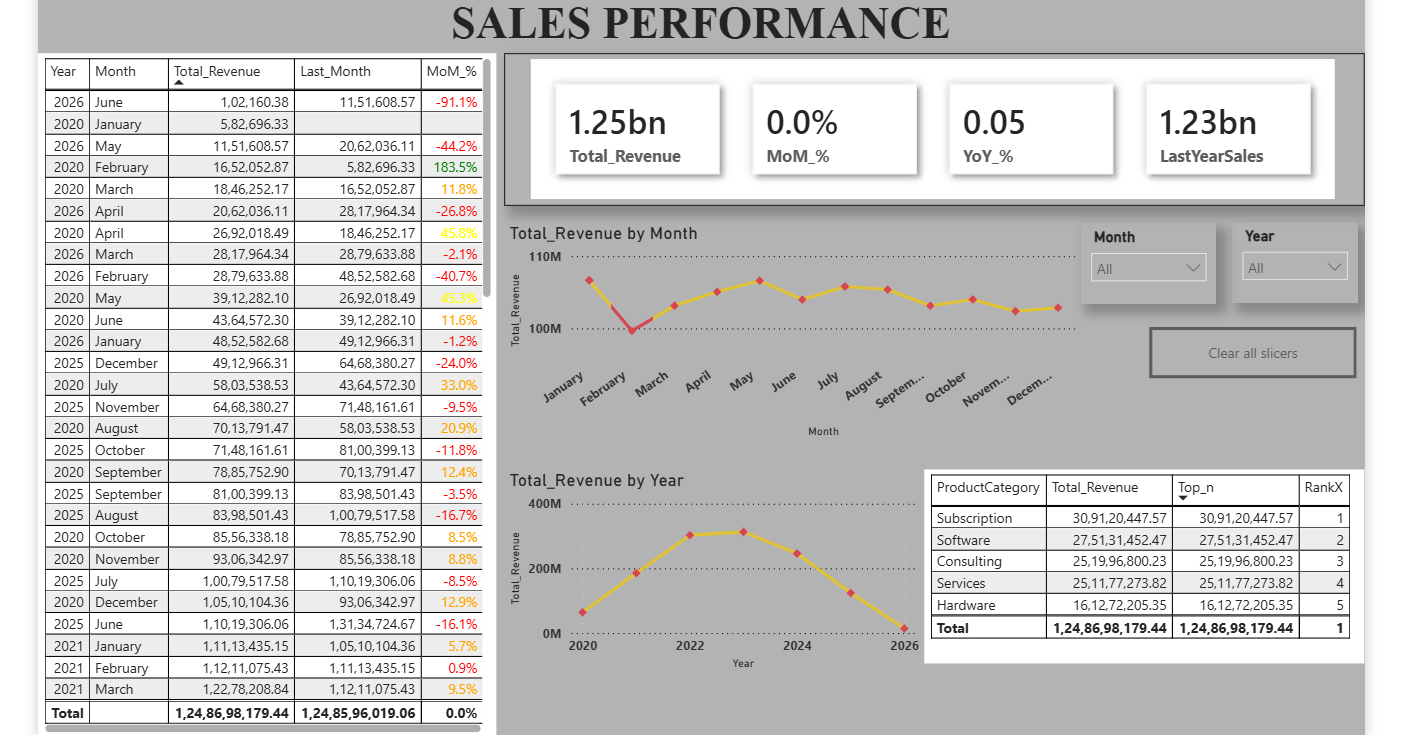

The dashboard page shown, as its layout file describes it:
{"tool":"powerbi","page":{"name":"Sales","canvas":[1280,720],"ordinal":5},"visuals":[{"type":"textbox","box":[0,0,1280,73.6],"z":0},{"type":"slicer","fields":{"Values":["Calendar.Date.Variation.Date Hierarchy.Month"]},"box":[1006.2,223.2,131.5,77.2],"z":1000},{"type":"slicer","fields":{"Values":["Calendar.Date.Variation.Date Hierarchy.Year"]},"box":[1152.2,222,121.9,78.4],"z":2000},{"type":"tableEx","fields":{"Values":["churn_info.ProductCategory","Dax.Total_Revenue","Dax.Top_n","Dax.RankX"]},"box":[855.4,460.9,424.7,187],"z":3000},{"type":"cardVisual","fields":{"Data":["Dax.Total_Revenue","Dax.MoM_%","Dax.YoY_%","Dax.LastYearSales"]},"box":[450,59.1,830,147.2],"z":4000},{"type":"lineChart","fields":{"Category":["Calendar.Date.Variation.Date Hierarchy.Month"],"Y":["Dax.Total_Revenue"]},"box":[450,222,556.2,213.5],"z":5000},{"type":"tableEx","fields":{"Values":["Calendar.Date.Variation.Date Hierarchy.Year","Calendar.Date.Variation.Date Hierarchy.Month","Dax.Total_Revenue","Dax.Last_Month","Dax.MoM_%"]},"box":[0,59.1,442.8,661.1],"z":6000},{"type":"lineChart","fields":{"Category":["Calendar.Date.Variation.Date Hierarchy.Year"],"Y":["Dax.Total_Revenue"]},"box":[450,460.9,405.4,197.9],"z":7000},{"type":"actionButton","box":[1072.5,323.3,200.3,49.5],"z":8000}]}

Visuals, with their boxes on the page's 1280x720 design canvas (x1, y1, x2, y2). These are canvas units, not pixel positions in the 1402x735 screenshot, which may show the page scaled, cropped or inside an application window:
textbox: [x1=0, y1=0, x2=1280, y2=74]
slicer - Calendar.Date.Variation.Date Hierarchy.Month: [x1=1006, y1=223, x2=1138, y2=300]
slicer - Calendar.Date.Variation.Date Hierarchy.Year: [x1=1152, y1=222, x2=1274, y2=300]
tableEx - churn_info.ProductCategory x Dax.Total_Revenue: [x1=855, y1=461, x2=1280, y2=648]
cardVisual - Dax.Total_Revenue x Dax.MoM_%: [x1=450, y1=59, x2=1280, y2=206]
lineChart - Calendar.Date.Variation.Date Hierarchy.Month x Dax.Total_Revenue: [x1=450, y1=222, x2=1006, y2=436]
tableEx - Calendar.Date.Variation.Date Hierarchy.Year x Calendar.Date.Variation.Date Hierarchy.Month: [x1=0, y1=59, x2=443, y2=720]
lineChart - Calendar.Date.Variation.Date Hierarchy.Year x Dax.Total_Revenue: [x1=450, y1=461, x2=855, y2=659]
actionButton: [x1=1072, y1=323, x2=1273, y2=373]
